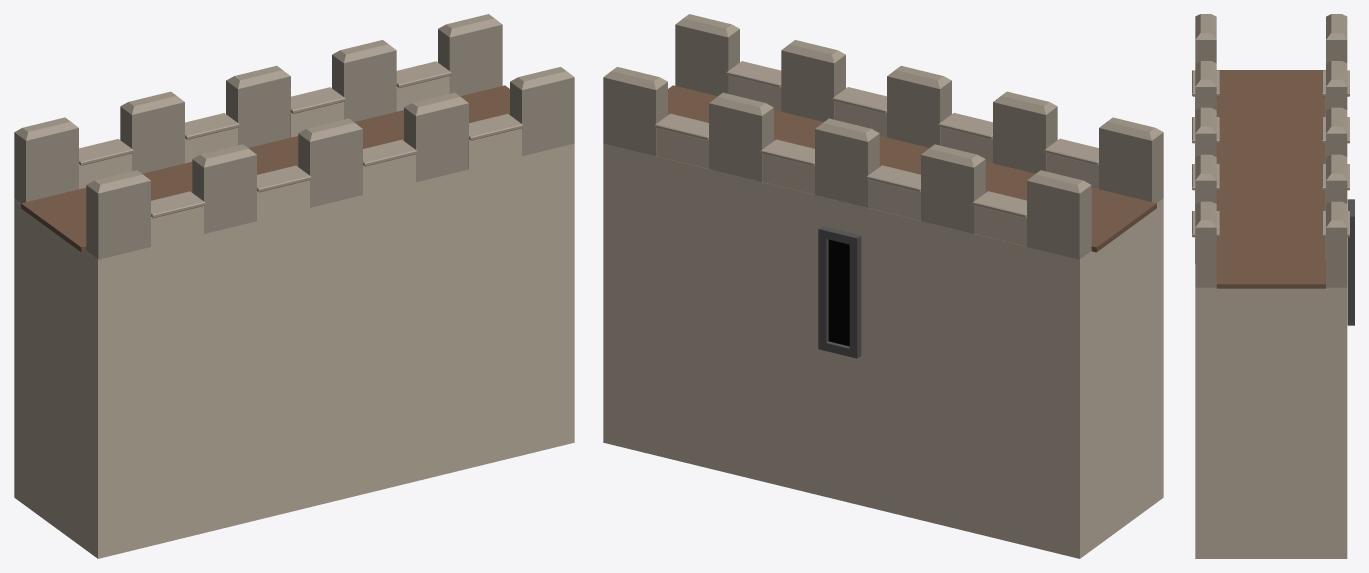
File: new_wallA.fbx
3 views of the same model, side by side, from view 1: azimuth 30°, elevation 25°; view 2: azimuth 150°, elevation 25°; view 3: azimuth 270°, elevation 25° (orthographic). The views are drawn at different scales.
Visible parts, largest first — view 1: wall_A2, floor1, spike1, spike6, spike2, spike4, spike5, spike3, spike10, spike9, spike7, spike8 (+16 smaller); view 2: wall_A2, floor1, window1, spike6, spike1, spike10, spike9, spike7, spike8, spike3, spike5, spike4 (+17 smaller); view 3: wall_A2, floor1, spike10, spike5, spike3, spike4, spike9, spike8, spike1, spike6, spike7, spike2 (+1 smaller).
Part boxes in pixels (x1,y1,x2,y2): wall_A2: [14, 143, 574, 558]; floor1: [21, 85, 509, 252]; spike1: [86, 170, 150, 259]; spike6: [14, 117, 78, 203]; spike2: [192, 144, 256, 233]; spike4: [404, 92, 468, 182]; spike5: [510, 67, 574, 156]; spike3: [298, 118, 362, 207]; spike10: [438, 14, 502, 96]; spike9: [332, 40, 396, 121]; spike7: [120, 91, 184, 173]; spike8: [226, 65, 290, 147]; wall_A2: [603, 143, 1163, 558]; floor1: [668, 85, 1156, 252]; window1: [818, 226, 861, 358]; spike6: [1027, 170, 1091, 259]; spike1: [1099, 117, 1163, 203]; spike10: [603, 67, 667, 156]; spike9: [709, 92, 773, 181]; spike7: [921, 144, 985, 233]; spike8: [815, 118, 879, 207]; spike3: [887, 65, 951, 147]; spike5: [675, 14, 739, 96]; spike4: [781, 40, 845, 121]; wall_A2: [1195, 287, 1347, 558]; floor1: [1216, 70, 1325, 288]; spike10: [1326, 201, 1347, 287]; spike5: [1195, 201, 1216, 287]; spike3: [1195, 107, 1216, 156]; spike4: [1195, 154, 1216, 203]; spike9: [1326, 154, 1347, 203]; spike8: [1326, 107, 1347, 156]; spike1: [1195, 14, 1216, 63]; spike6: [1326, 14, 1347, 63]; spike7: [1326, 61, 1347, 109]; spike2: [1195, 61, 1216, 109].
Bounding box in the file's own units: 504 × 369 × 162.
